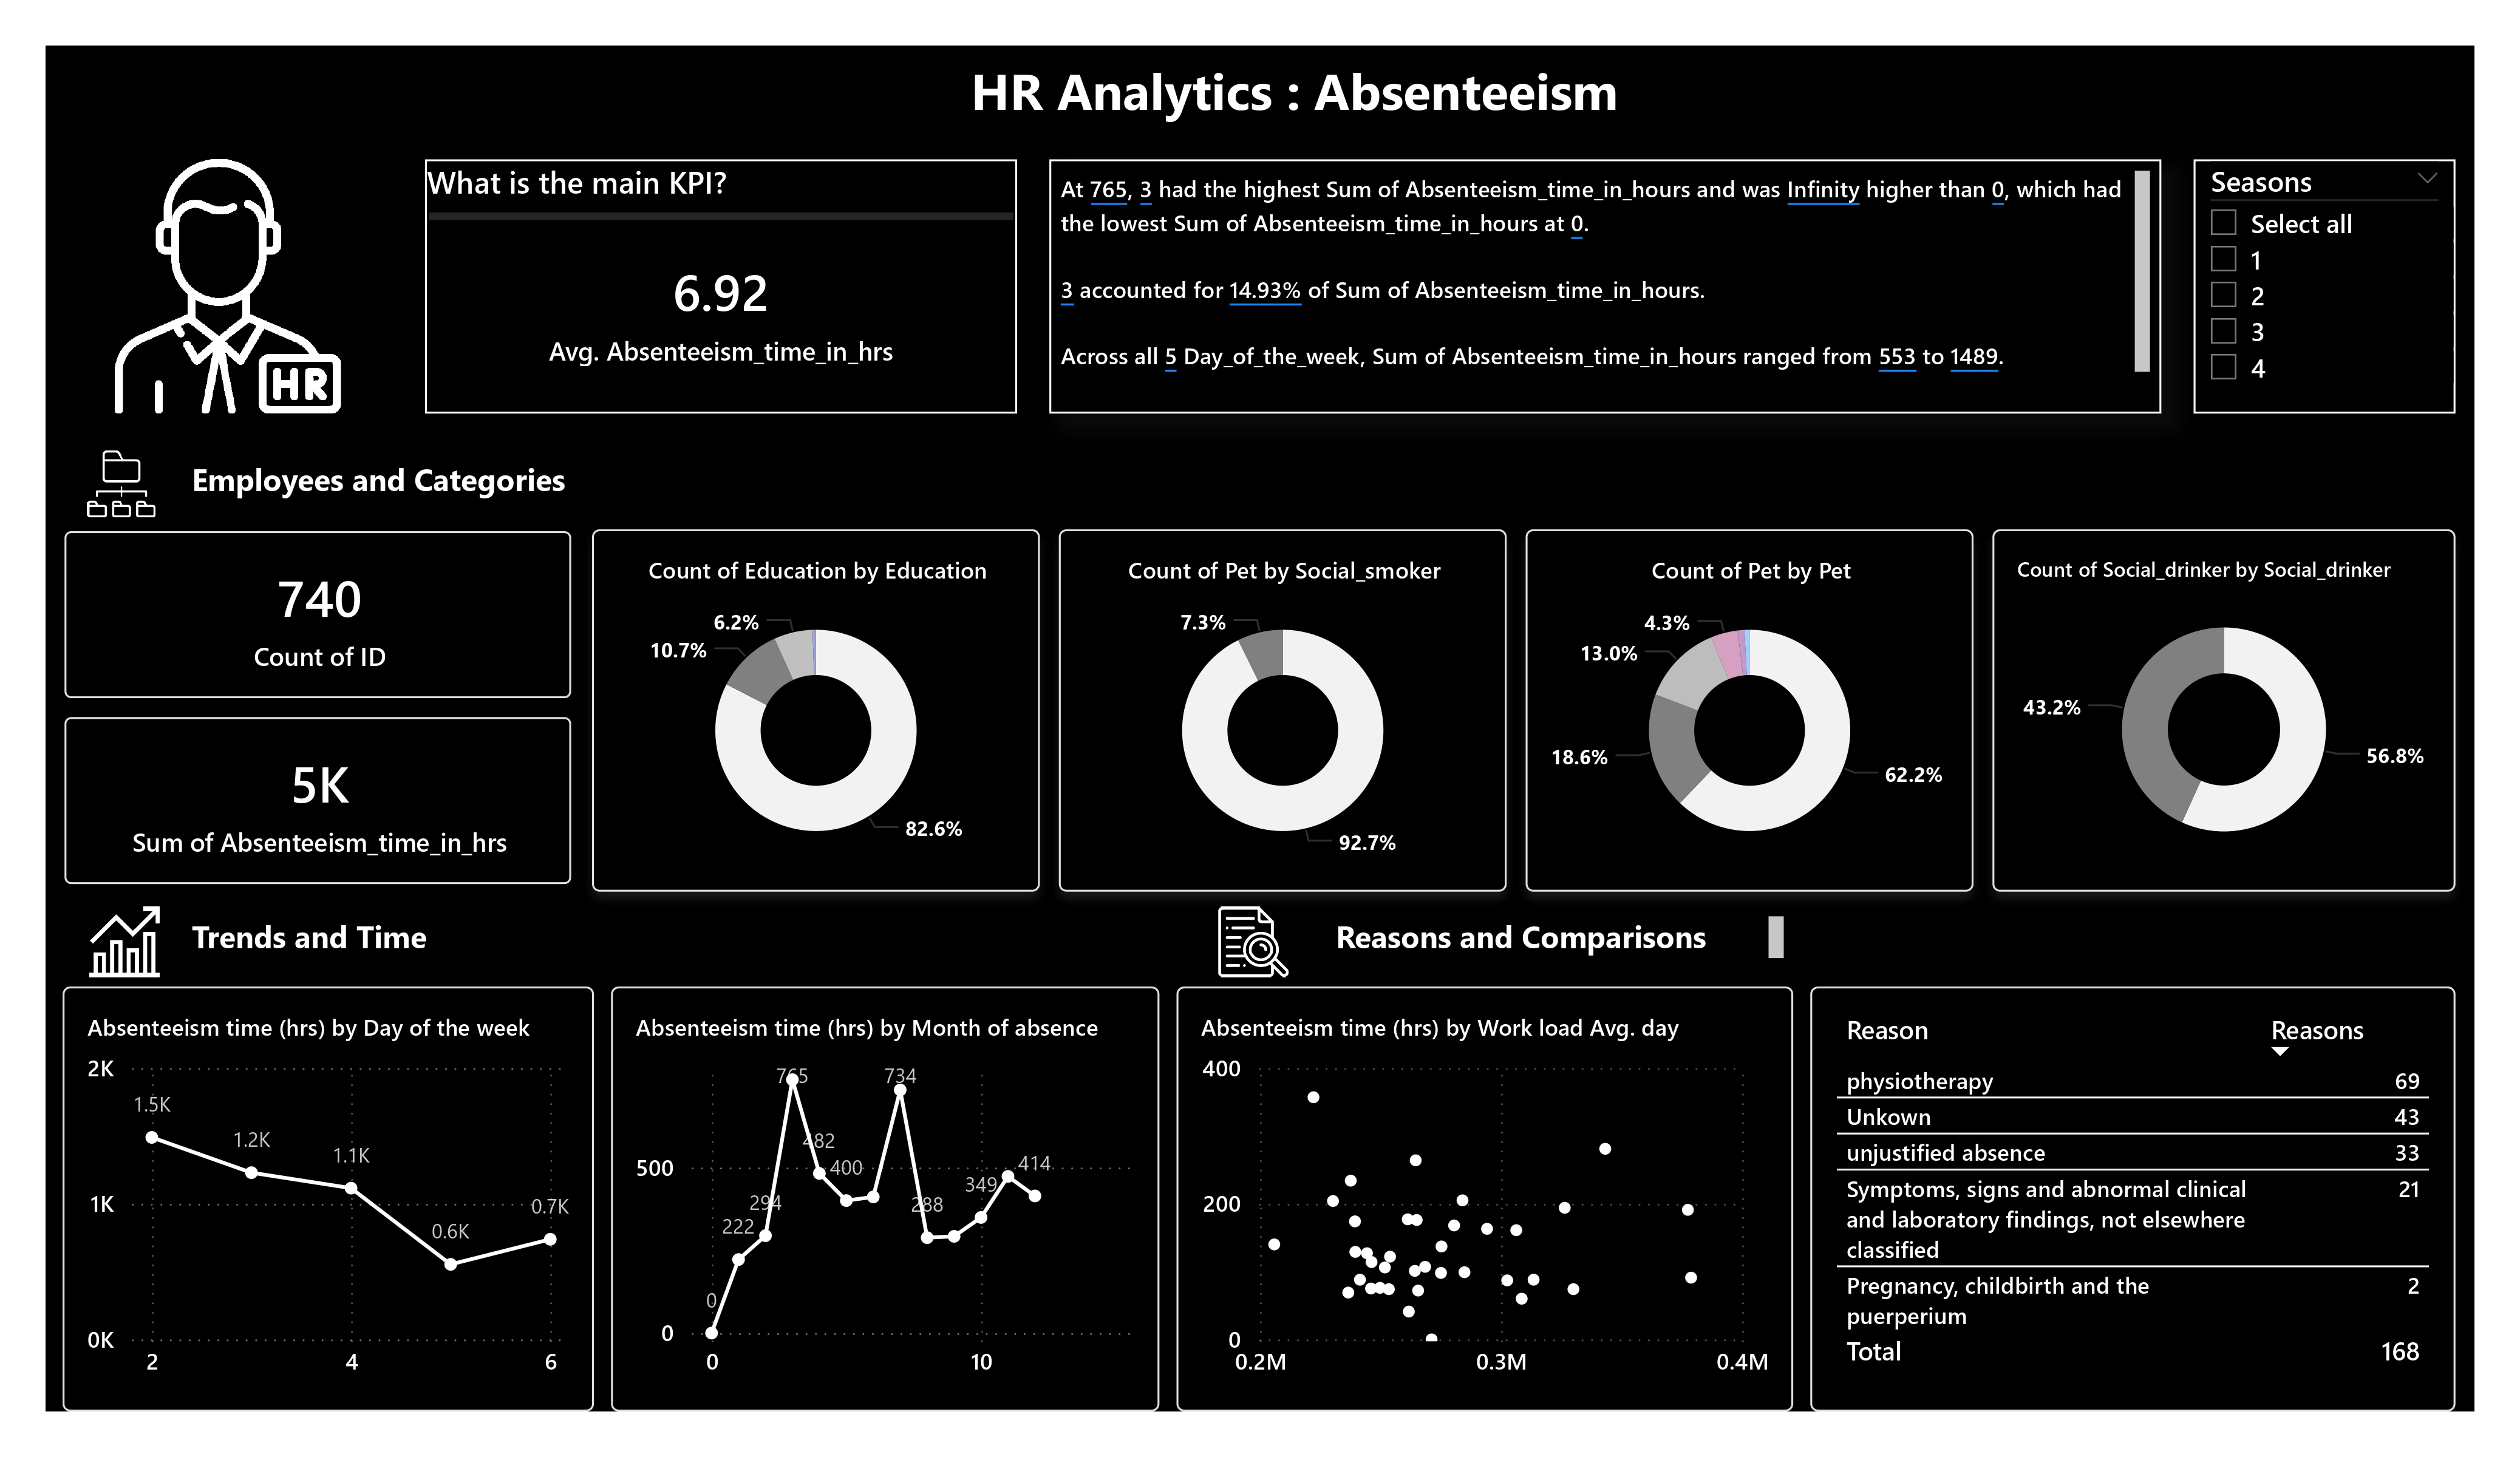

The dashboard page shown, as its layout file describes it:
{"tool":"powerbi","page":{"name":"Page 1","canvas":[1280,720],"ordinal":0},"visuals":[{"type":"cardVisual","title":"What is the main KPI?","fields":{"Data":["Avg(Query1.Absenteeism_time_in_hours)"]},"box":[199.8,59.5,311.8,134.6],"z":0},{"type":"donutChart","fields":{"Y":["CountNonNull(Query1.Education)"],"Category":["Query1.Education"]},"box":[288.4,255.1,235.3,191.3],"z":1000},{"type":"donutChart","fields":{"Y":["CountNonNull(Query1.Pet)"],"Category":["Query1.Social_smoker"]},"box":[534.3,255.1,235.3,191.3],"z":2000},{"type":"donutChart","fields":{"Y":["CountNonNull(Query1.Pet)"],"Category":["Query1.Pet"]},"box":[780.2,255.1,235.3,191.3],"z":3000},{"type":"donutChart","fields":{"Category":["Query1.Social_drinker"],"Y":["CountNonNull(Query1.Social_drinker)"]},"box":[1026.1,255.1,243.8,191.3],"z":4000},{"type":"lineChart","fields":{"Category":["Query1.Month_of_absence"],"Y":["Sum(Query1.Absenteeism_time_in_hours)"]},"box":[298.1,496.1,289.1,223.9],"z":5000},{"type":"lineChart","fields":{"Category":["Query1.Day_of_the_week"],"Y":["Sum(Query1.Absenteeism_time_in_hours)"]},"box":[8.5,496.1,280.6,223.9],"z":6000},{"type":"tableEx","fields":{"Values":["Query1.Reason","CountNonNull(Query1.Reason)"]},"box":[929.8,496.1,340.2,223.9],"z":7000},{"type":"scatterChart","fields":{"X":["Query1.Work_load_Average_day"],"Y":["Sum(Query1.Absenteeism_time_in_hours)"]},"box":[596.2,496.1,324.6,223.9],"z":8000},{"type":"textbox","box":[528.7,59.5,586.8,134.6],"z":9000},{"type":"slicer","fields":{"Values":["Query1.Seasons"]},"box":[1132.4,59.5,137.5,134.6],"z":10000},{"type":"cardVisual","fields":{"Data":["CountNonNull(Query1.ID)"]},"box":[8.5,255.1,269.3,90],"z":11000},{"type":"cardVisual","fields":{"Data":["Sum(Query1.Absenteeism_time_in_hours)"]},"box":[8.5,352.9,269.3,90],"z":12000},{"type":"textbox","box":[387.7,0,504.6,49.6],"z":13000},{"type":"image","box":[8.5,59.5,174.3,134.6],"z":14000},{"type":"image","box":[8.5,212.6,62.4,36.9],"z":15000},{"type":"textbox","box":[72.3,212.6,299.1,36.9],"z":16000},{"type":"image","box":[8.5,453.5,65.2,37],"z":17000},{"type":"textbox","box":[72.3,453.5,178.6,42.5],"z":18000},{"type":"image","box":[605.2,453.5,63,37],"z":19000},{"type":"textbox","box":[674.6,453.5,246.6,39.7],"z":20000}]}

Visuals, with their boxes on the page's 1280x720 design canvas (x1, y1, x2, y2). These are canvas units, not pixel positions in the 2520x1457 screenshot, which may show the page scaled, cropped or inside an application window:
"What is the main KPI?" cardVisual: (left=200, top=60, right=512, bottom=194)
donutChart - CountNonNull(Query1.Education) x Query1.Education: (left=288, top=255, right=524, bottom=446)
donutChart - CountNonNull(Query1.Pet) x Query1.Social_smoker: (left=534, top=255, right=770, bottom=446)
donutChart - CountNonNull(Query1.Pet) x Query1.Pet: (left=780, top=255, right=1016, bottom=446)
donutChart - Query1.Social_drinker x CountNonNull(Query1.Social_drinker): (left=1026, top=255, right=1270, bottom=446)
lineChart - Query1.Month_of_absence x Sum(Query1.Absenteeism_time_in_hours): (left=298, top=496, right=587, bottom=720)
lineChart - Query1.Day_of_the_week x Sum(Query1.Absenteeism_time_in_hours): (left=8, top=496, right=289, bottom=720)
tableEx - Query1.Reason x CountNonNull(Query1.Reason): (left=930, top=496, right=1270, bottom=720)
scatterChart - Query1.Work_load_Average_day x Sum(Query1.Absenteeism_time_in_hours): (left=596, top=496, right=921, bottom=720)
textbox: (left=529, top=60, right=1116, bottom=194)
slicer - Query1.Seasons: (left=1132, top=60, right=1270, bottom=194)
cardVisual - CountNonNull(Query1.ID): (left=8, top=255, right=278, bottom=345)
cardVisual - Sum(Query1.Absenteeism_time_in_hours): (left=8, top=353, right=278, bottom=443)
textbox: (left=388, top=0, right=892, bottom=50)
image: (left=8, top=60, right=183, bottom=194)
image: (left=8, top=213, right=71, bottom=250)
textbox: (left=72, top=213, right=371, bottom=250)
image: (left=8, top=454, right=74, bottom=490)
textbox: (left=72, top=454, right=251, bottom=496)
image: (left=605, top=454, right=668, bottom=490)
textbox: (left=675, top=454, right=921, bottom=493)
